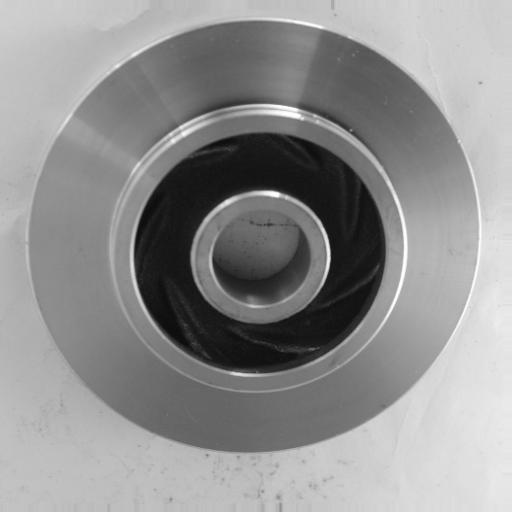polished_casting: (28, 16, 479, 457)
